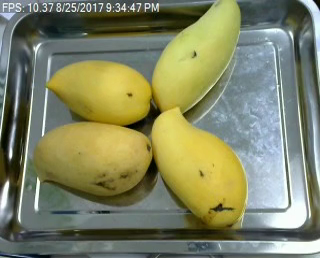Mango: (152, 107, 247, 228), (151, 0, 241, 116), (35, 122, 153, 197), (47, 59, 152, 125)
